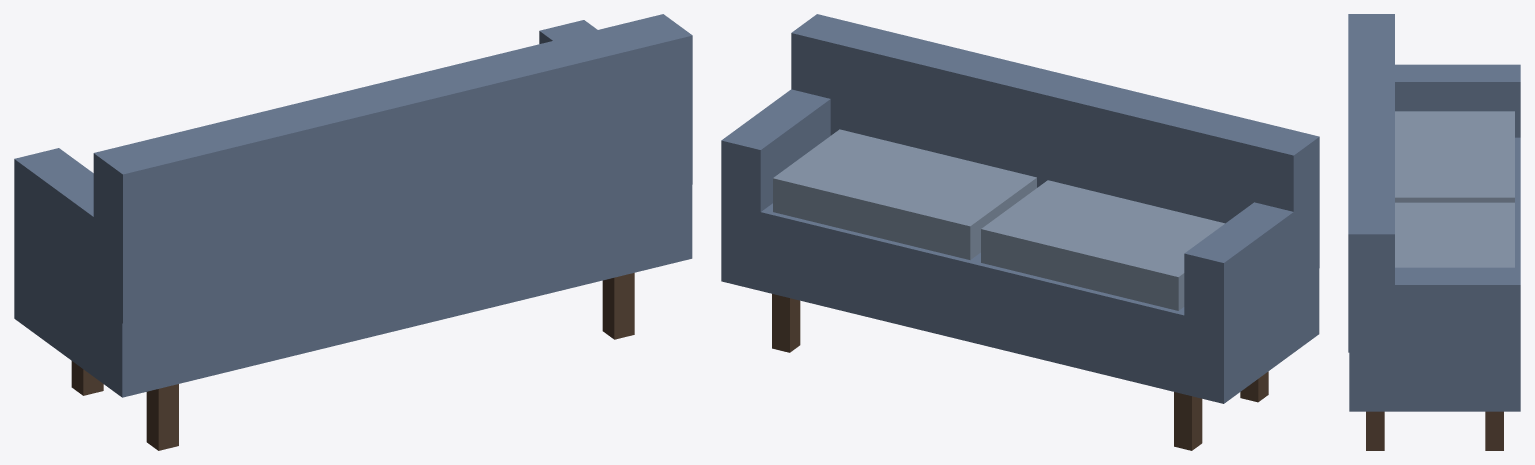
Rendered from sofa.glb.
3 renders of one model, left to right at view 1: azimuth 30°, elevation 25°; view 2: azimuth 150°, elevation 25°; view 3: azimuth 270°, elevation 25°, orthographic. The views are drawn at different scales.
Bounding box in the file's own units: 2.8 × 1.39 × 0.925.
